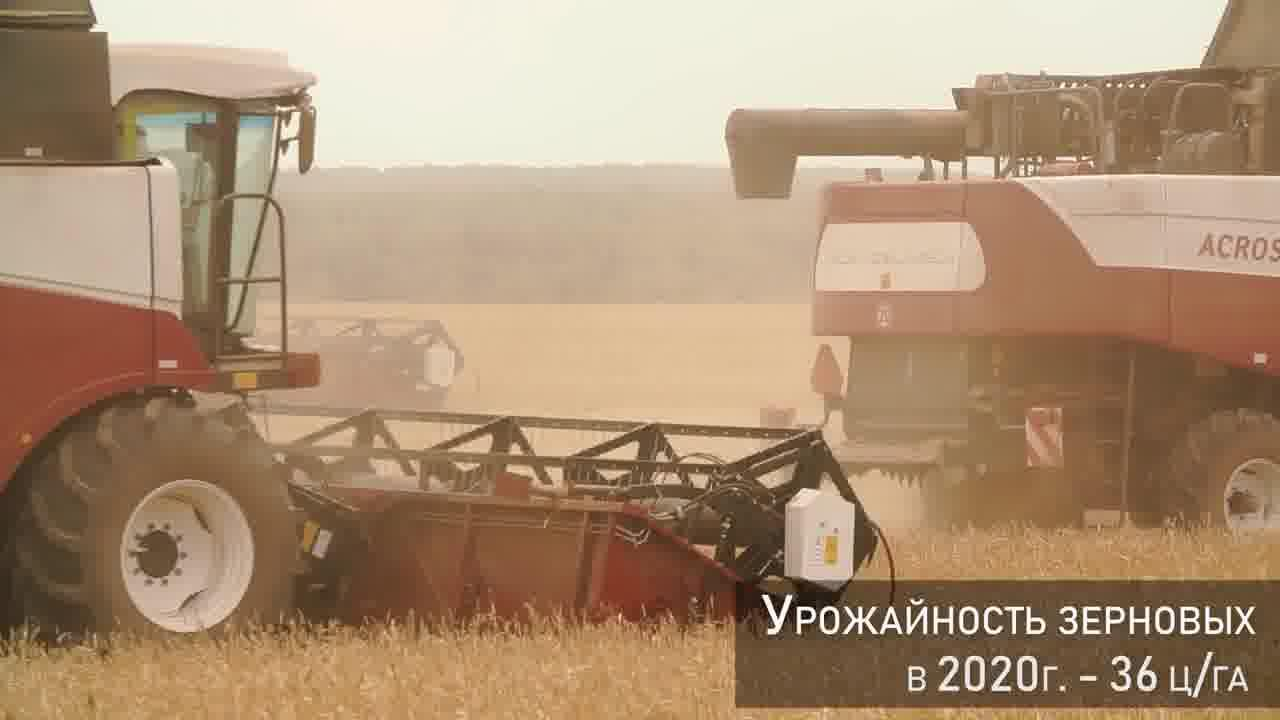combine harvester: (0, 0, 907, 660), (715, 0, 1280, 556)
